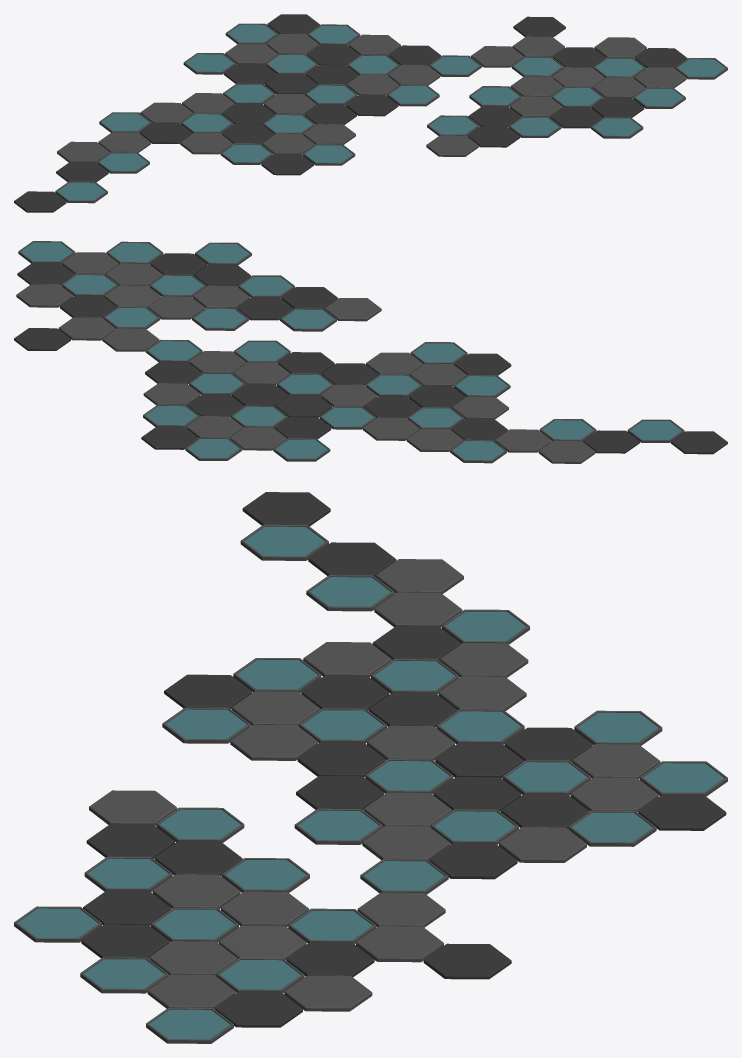
The model's file is W_O_Deco_Add_001_L0.fbx.
3 views of the same model, one above another, from view 1: azimuth 30°, elevation 25°; view 2: azimuth 150°, elevation 25°; view 3: azimuth 270°, elevation 25° (orthographic). The views are drawn at different scales.
Visible parts, largest first — view 1: W_O_Deco_Add_001_L0; view 2: W_O_Deco_Add_001_L0; view 3: W_O_Deco_Add_001_L0.
Boxes of the visible parts, x1=… form: W_O_Deco_Add_001_L0: x1=14, y1=14, x2=727, y2=212; W_O_Deco_Add_001_L0: x1=14, y1=241, x2=727, y2=463; W_O_Deco_Add_001_L0: x1=14, y1=492, x2=727, y2=1043.
Bounding box in the file's own units: 6.56 × 0.022 × 3.61.
